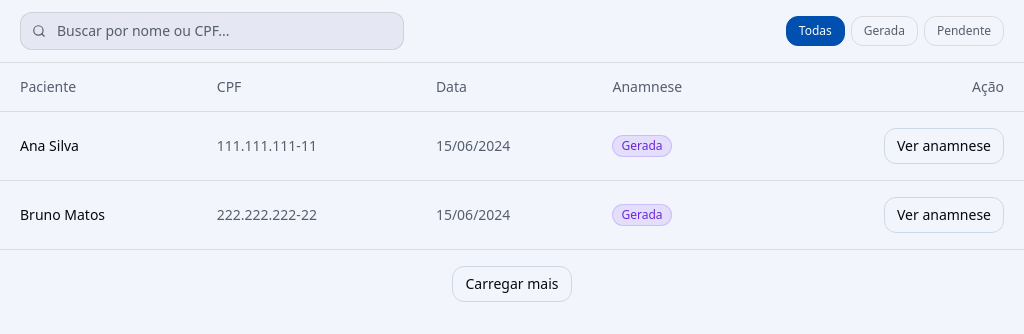
HistoryClient — carregar mais › ao clicar carrega novos atendimentos e os exibe
Click the button "Carregar mais" at point(512, 284), box [452,266,572,302]
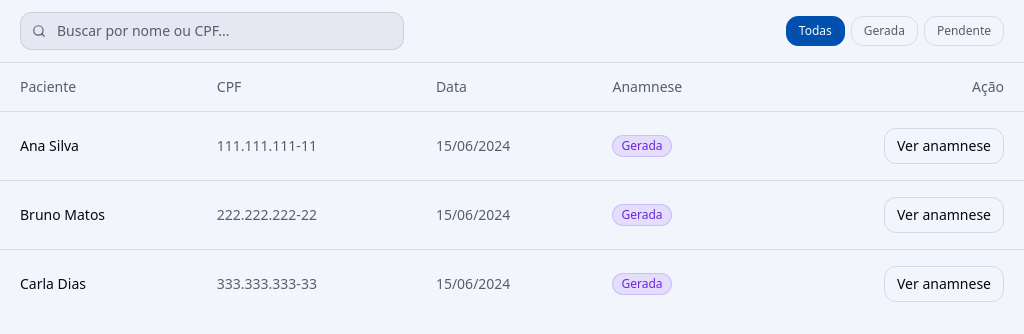
Check: the text "Ana Silva" is shown, box [0,111,201,180]
Check: the text "Carla Dias" is shown, box [0,249,201,318]
